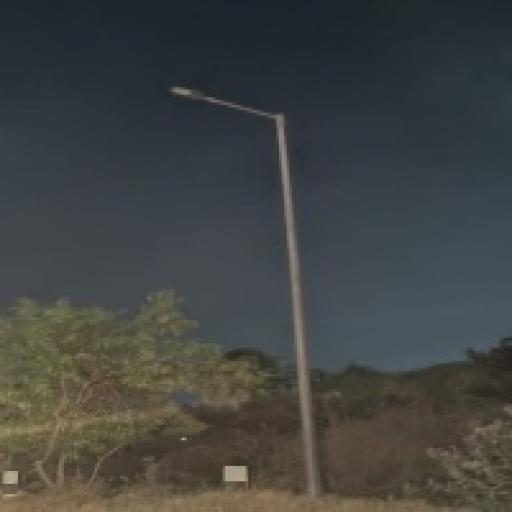Not Working: (165, 79, 210, 108)
